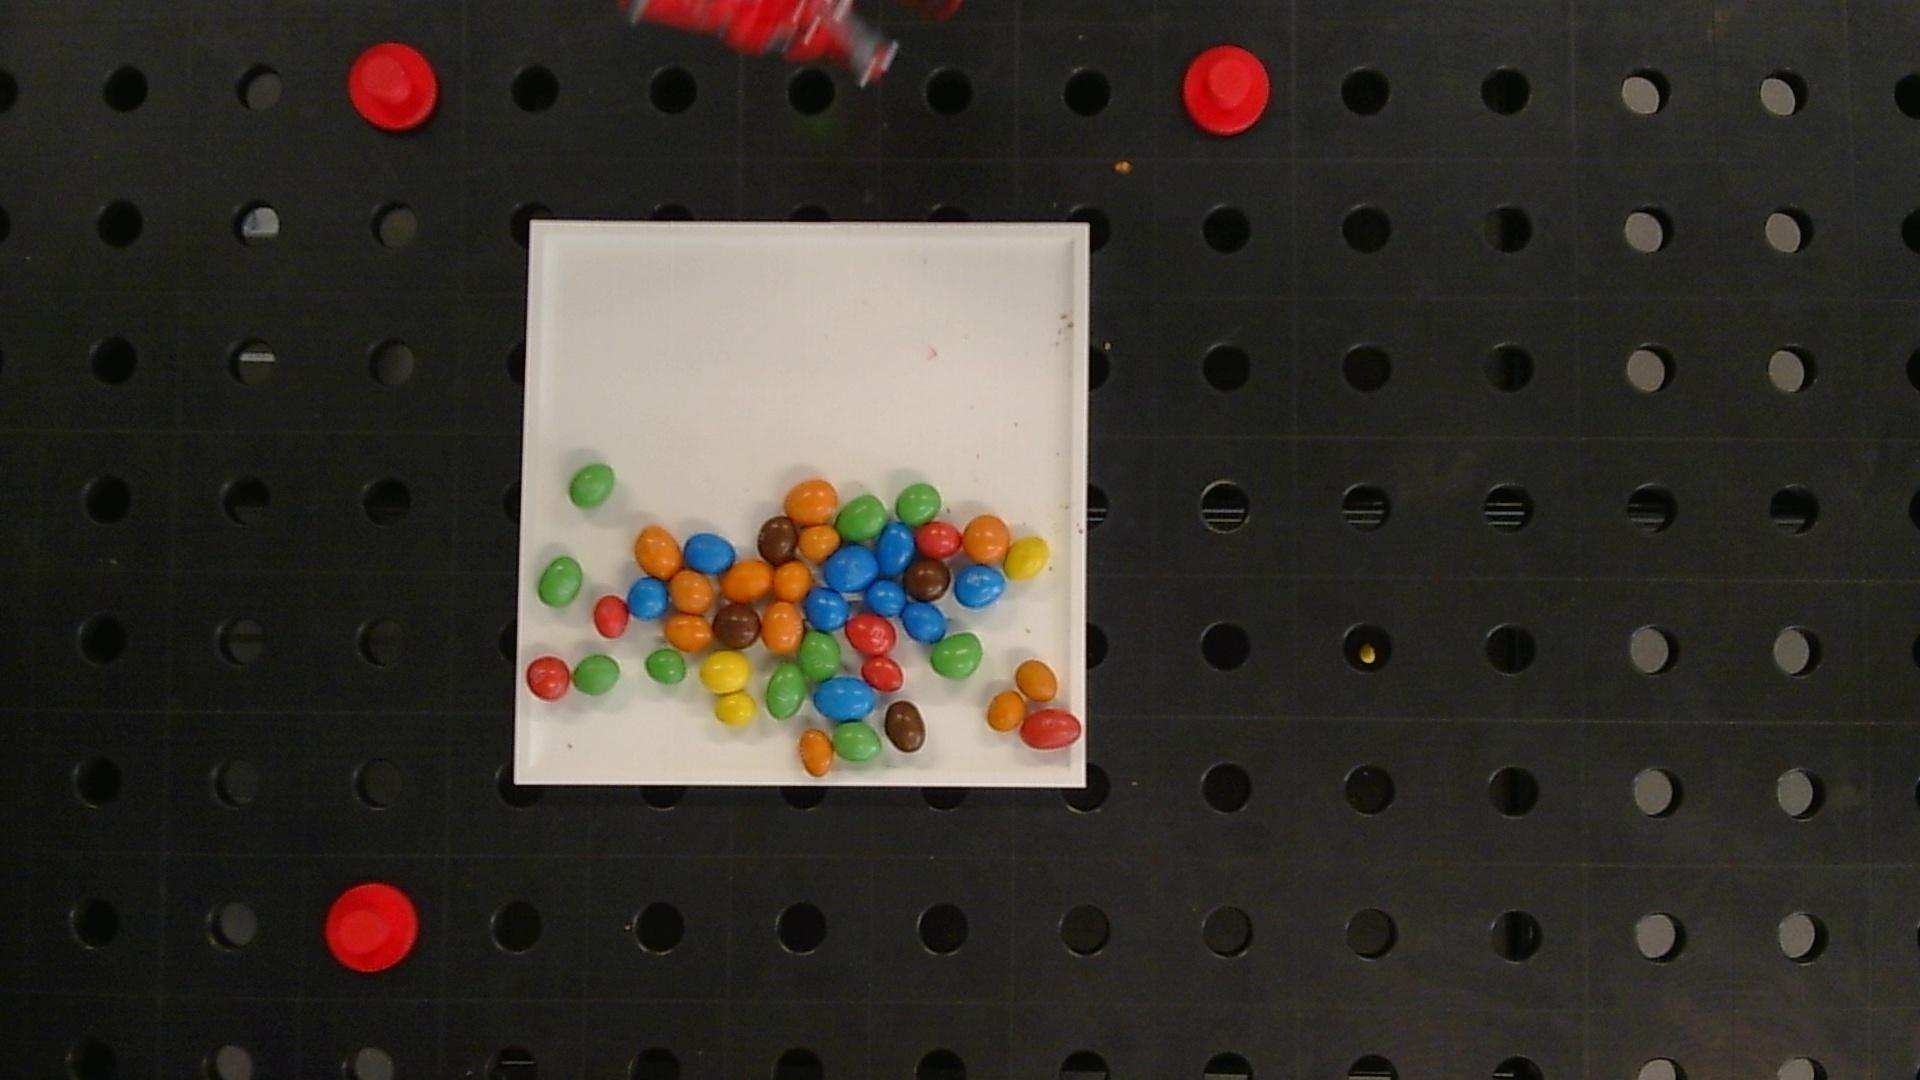blue: (814, 678, 878, 719), (824, 546, 878, 591), (876, 522, 914, 578), (684, 533, 735, 574), (955, 567, 1005, 607), (803, 588, 848, 630), (902, 601, 945, 642), (865, 579, 907, 618), (628, 576, 666, 620)
brown: (713, 605, 761, 651), (886, 702, 924, 752), (905, 562, 949, 600), (758, 517, 796, 562)
green: (932, 632, 982, 679), (839, 493, 885, 542), (766, 662, 806, 719), (539, 556, 582, 605), (895, 483, 940, 527), (798, 633, 840, 679), (832, 723, 882, 761), (571, 463, 615, 505), (572, 655, 618, 694), (645, 650, 684, 683)
orange: (636, 526, 680, 582), (783, 480, 836, 526), (761, 600, 803, 655), (720, 562, 774, 601), (669, 568, 715, 615), (964, 516, 1007, 563), (663, 615, 717, 651), (1015, 661, 1056, 703), (800, 728, 833, 777), (986, 690, 1025, 731), (798, 526, 839, 560), (775, 562, 811, 600)
red: (1018, 709, 1080, 749), (847, 613, 897, 655), (526, 657, 568, 702), (915, 522, 964, 559), (592, 596, 629, 638), (862, 655, 905, 692)
yellow: (1005, 537, 1050, 582), (702, 653, 750, 692), (715, 694, 758, 728)
